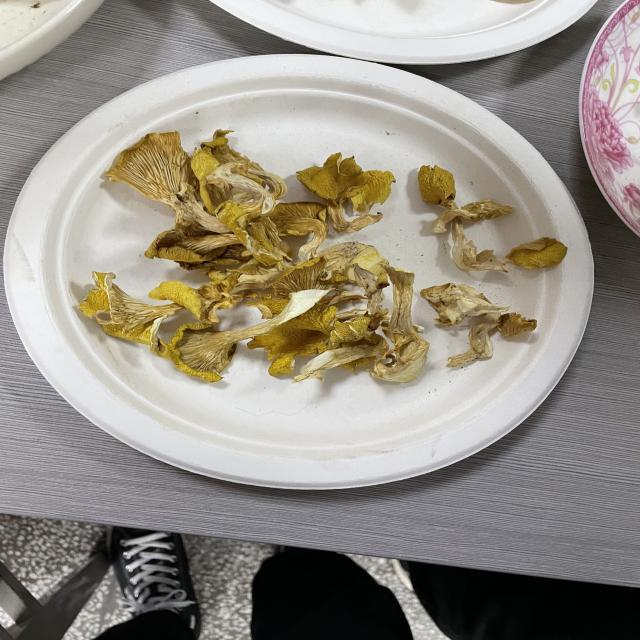Pleurotus citrinopileatus: (172, 160, 512, 427), (220, 56, 364, 166), (378, 78, 492, 166)
